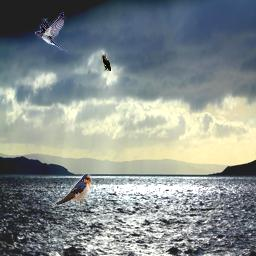Crow: (101, 54, 111, 71)
Swallow: (35, 12, 68, 52), (52, 174, 92, 206)
